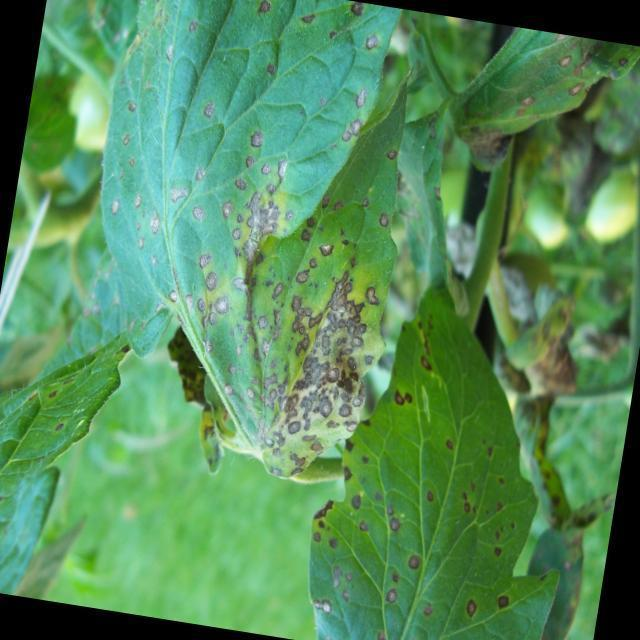Septoria: (314, 294, 589, 640), (103, 0, 422, 241), (174, 230, 386, 453), (507, 32, 637, 141)
